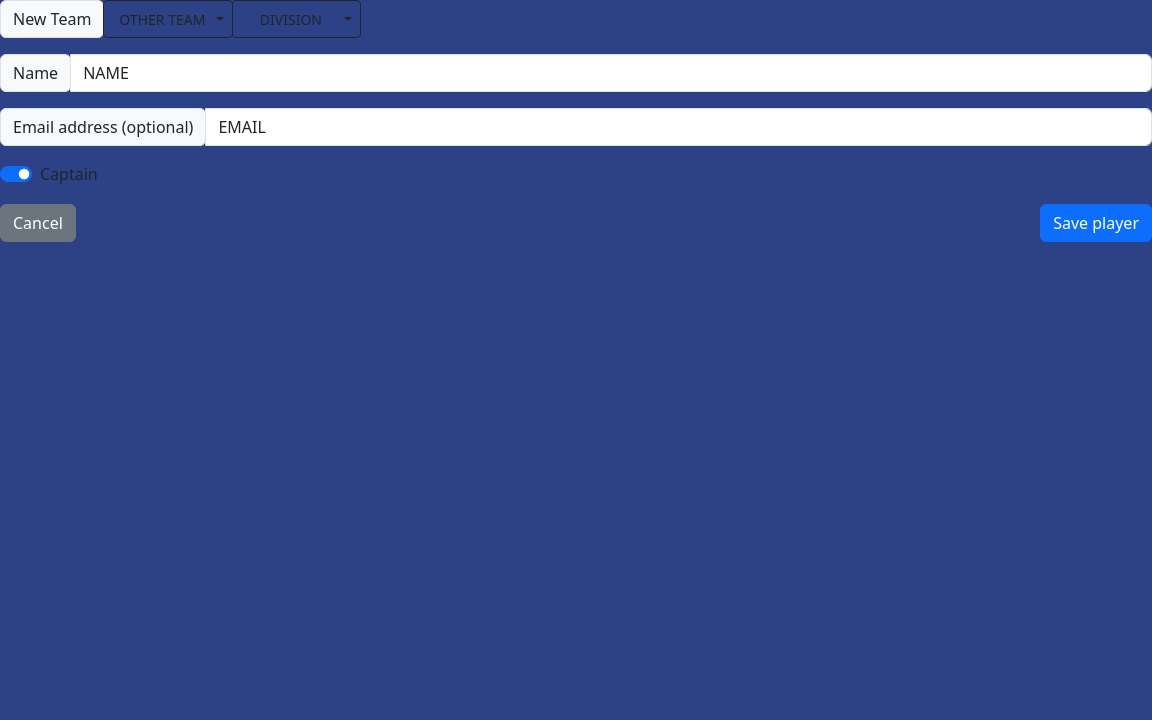
Test: EditPlayerDetails › interactivity › handles errors during save
Click the button "Save player". click: (1096,223)
box: 1040,204 -> 1151,242
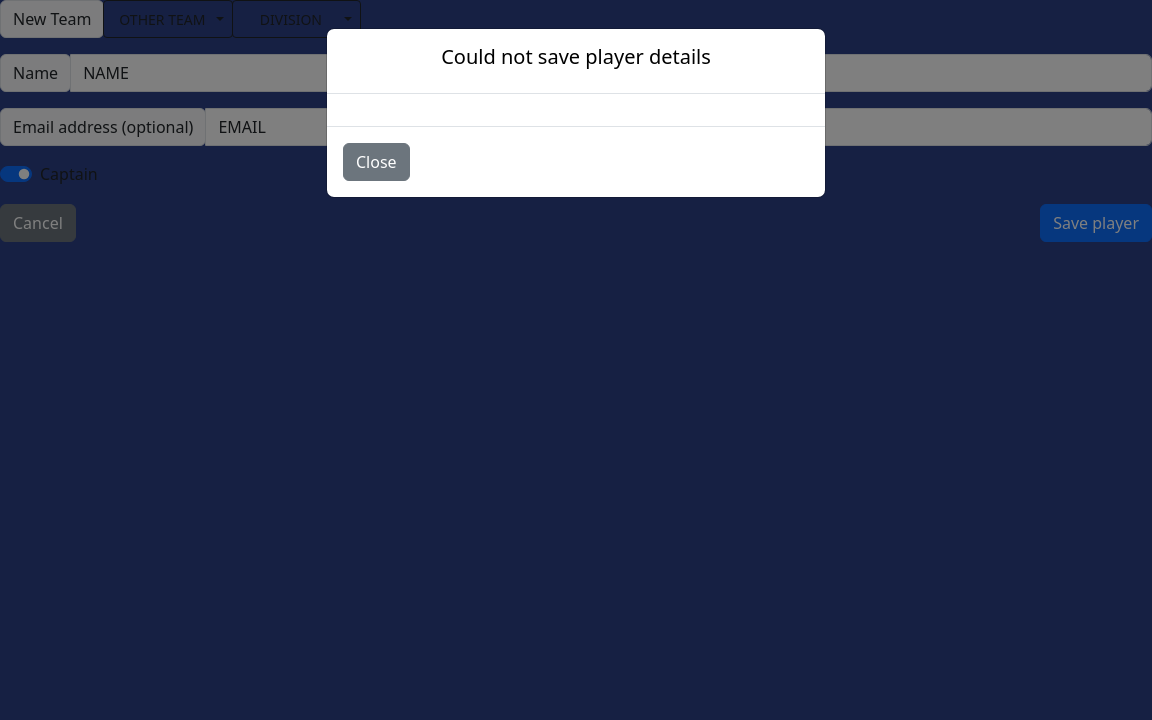
Result: the text "Could not save player details" is shown at 441,45 -> 711,69
